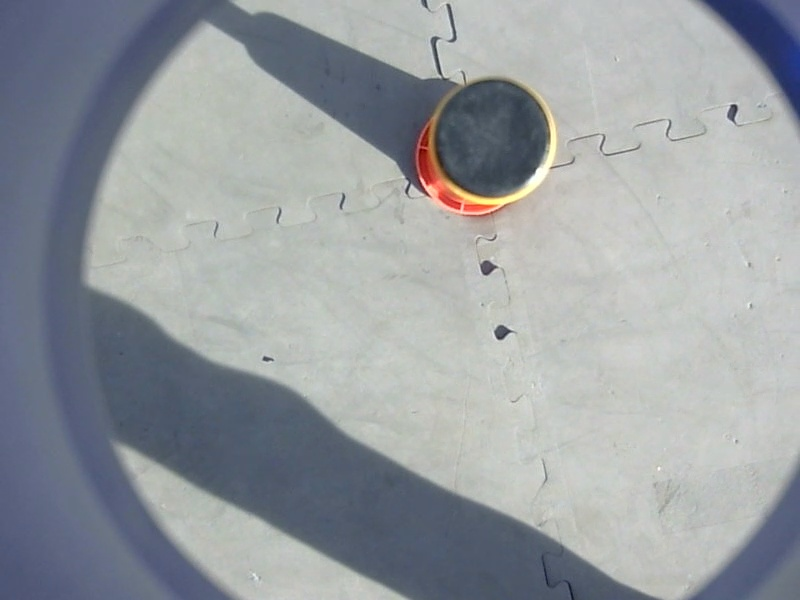tip: (424, 71, 564, 211)
